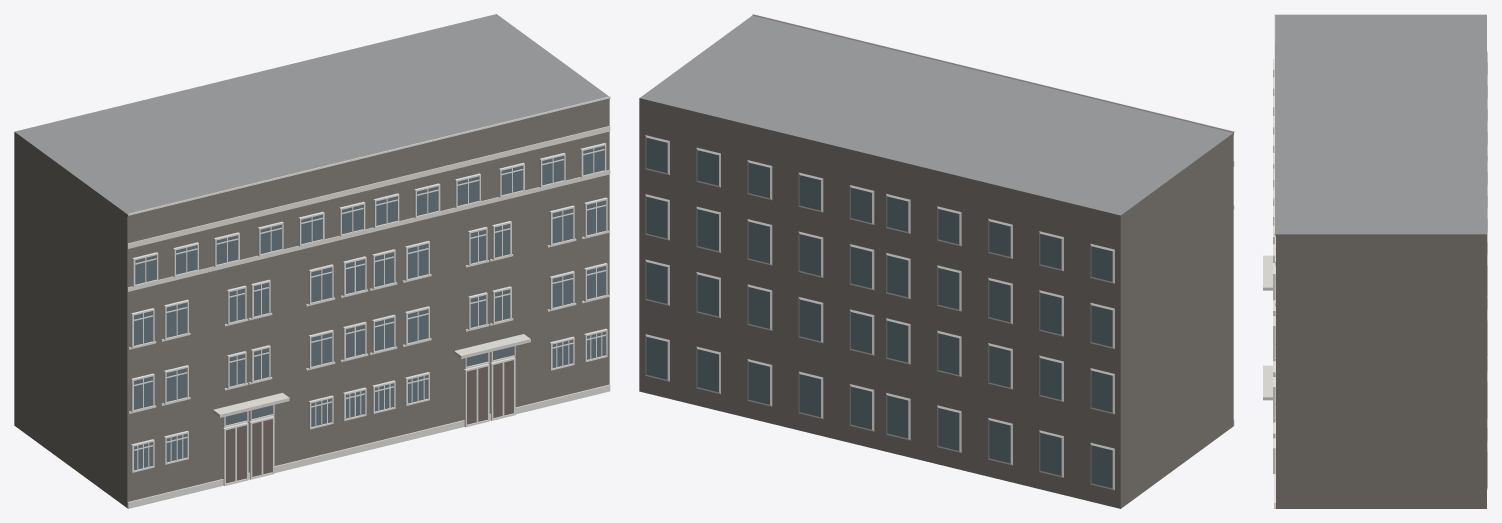
The model's file is chunk-face-theron-9-37-r1.glb.
The picture shows the model from 3 angles, left to right: view 1: azimuth 30°, elevation 25°; view 2: azimuth 150°, elevation 25°; view 3: azimuth 270°, elevation 25°; orthographic projection. The views are drawn at different scales.
Visible parts, largest first — view 1: face-theron-9-37-r1; view 2: face-theron-9-37-r1; view 3: face-theron-9-37-r1.
Part boxes in pixels (bbox=[...]): face-theron-9-37-r1: bbox=[14, 14, 610, 508]; face-theron-9-37-r1: bbox=[639, 14, 1234, 508]; face-theron-9-37-r1: bbox=[1263, 14, 1487, 508].
Size of the model in its own units: 23.84 by 13.93 by 10.32.
